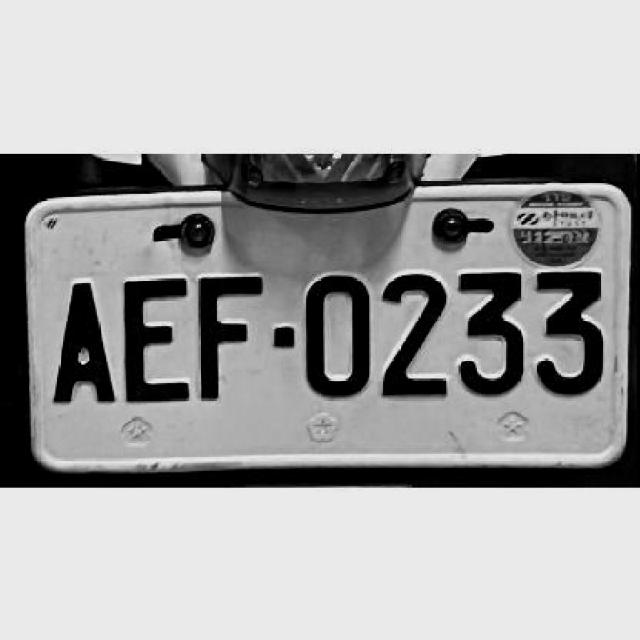-: (274, 323, 295, 346)
0: (302, 269, 371, 403)
2: (377, 266, 449, 397)
3: (455, 270, 523, 396), (537, 274, 605, 398)
A: (54, 272, 120, 406)
E: (121, 269, 190, 400)
F: (196, 273, 266, 402)
